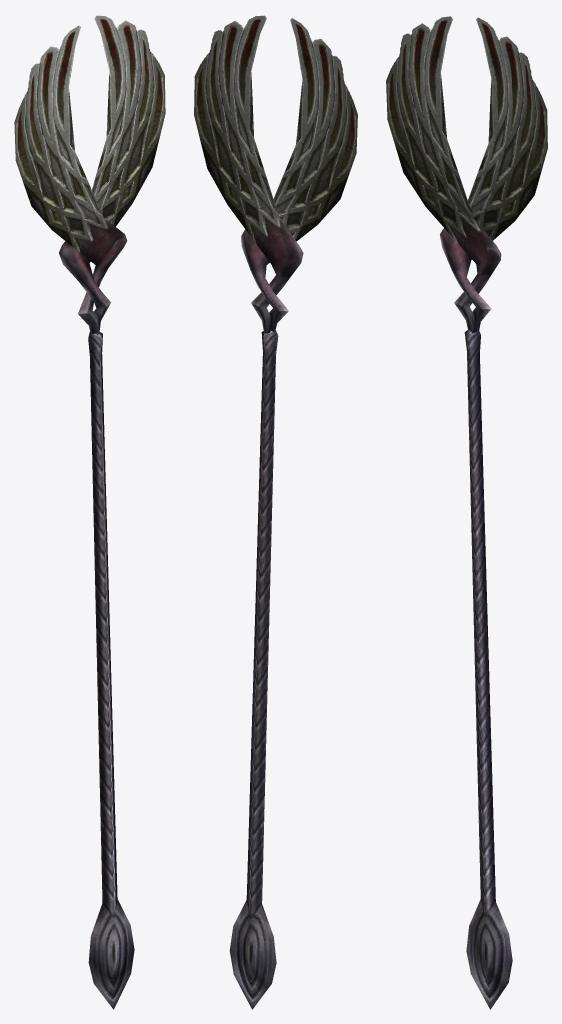
Rendered from tstaff_04.glb.
3 views of the same model, side by side, from view 1: azimuth 30°, elevation 25°; view 2: azimuth 150°, elevation 25°; view 3: azimuth 330°, elevation 25° (orthographic).
Visible parts, largest first — view 1: tstaff_04; view 2: tstaff_04; view 3: tstaff_04.
Boxes of the visible parts, x1,y1,x2,y2 form: tstaff_04: (14,15,165,1009); tstaff_04: (194,15,357,1009); tstaff_04: (386,16,547,1009).
Size of the model in its own units: 3.08 by 18.68 by 0.401.
Materials: 1 (1 with a texture image).
